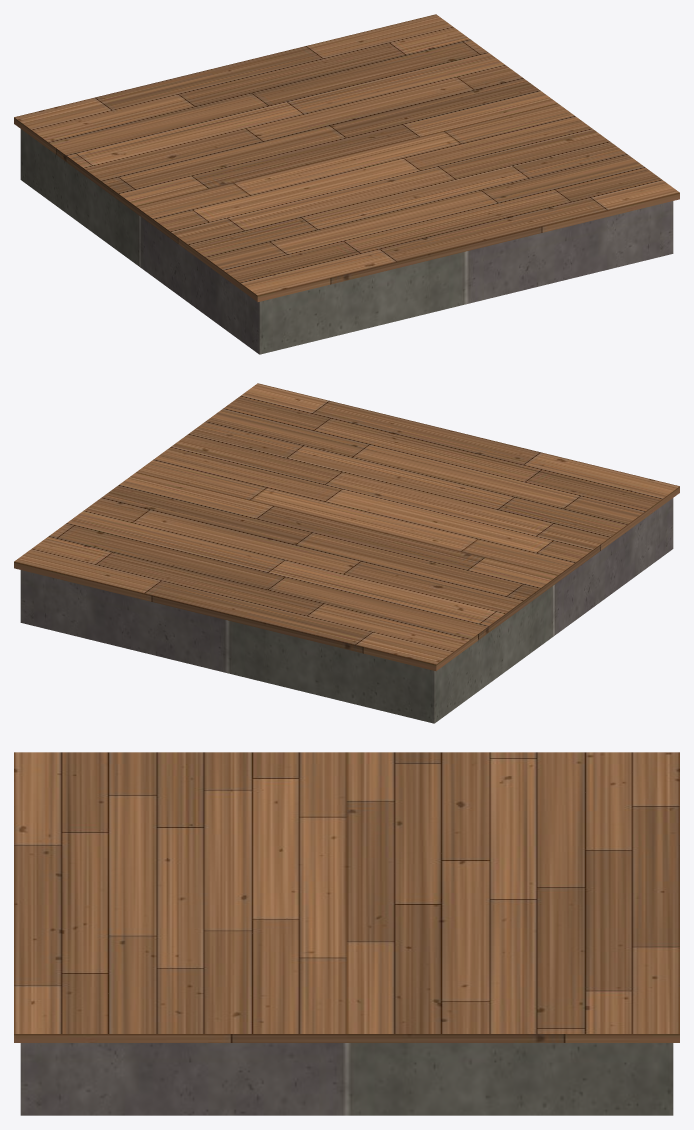
Rendered from floor_floor_g.glb.
The picture shows the model from 3 angles, top to bottom: view 1: azimuth 30°, elevation 25°; view 2: azimuth 150°, elevation 25°; view 3: azimuth 270°, elevation 25°; orthographic projection. The views are drawn at different scales.
Visible parts, largest first — view 1: floor_floor_g_floor, floor_floor_g_plinth; view 2: floor_floor_g_floor, floor_floor_g_plinth; view 3: floor_floor_g_floor, floor_floor_g_plinth.
Boxes of the visible parts, <box> form: floor_floor_g_floor: <box>14,14,679,301</box>; floor_floor_g_plinth: <box>20,129,673,354</box>; floor_floor_g_floor: <box>14,383,679,670</box>; floor_floor_g_plinth: <box>20,498,673,723</box>; floor_floor_g_floor: <box>14,752,679,1042</box>; floor_floor_g_plinth: <box>20,1043,673,1115</box>.
Bounding box in the file's own units: 2 × 0.28 × 2.
2 materials, 2 textured.
